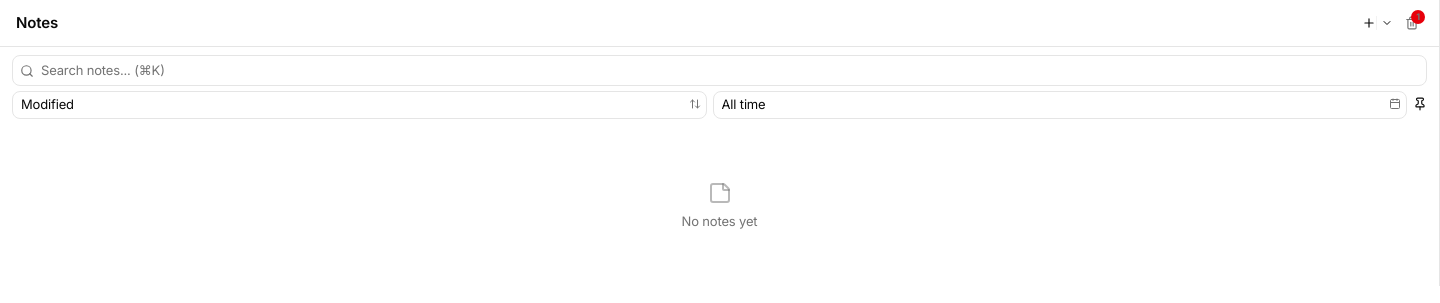
it: trash mode › entering trash mode shows trashed notes
Click the button named "trash". click: (1412, 23)
box: top-left (1401, 12), bottom-right (1423, 34)
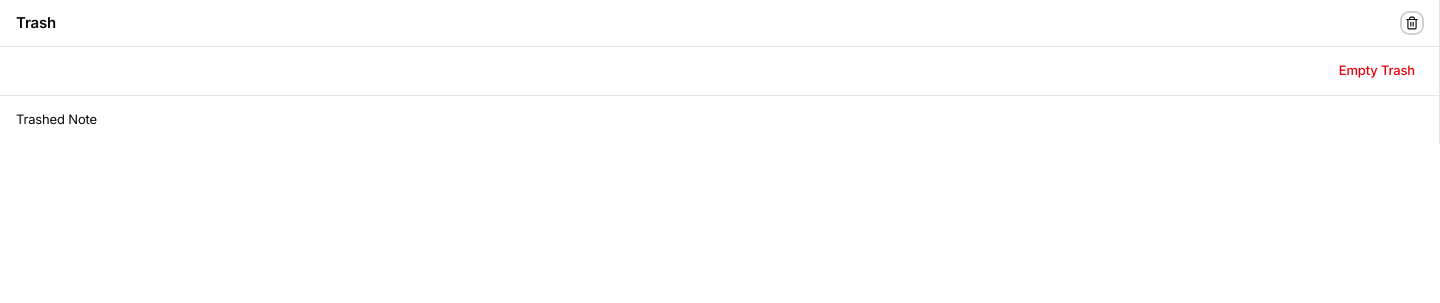
Check: the text "Trashed Note" is shown, box top-left (16, 111), bottom-right (97, 127)
